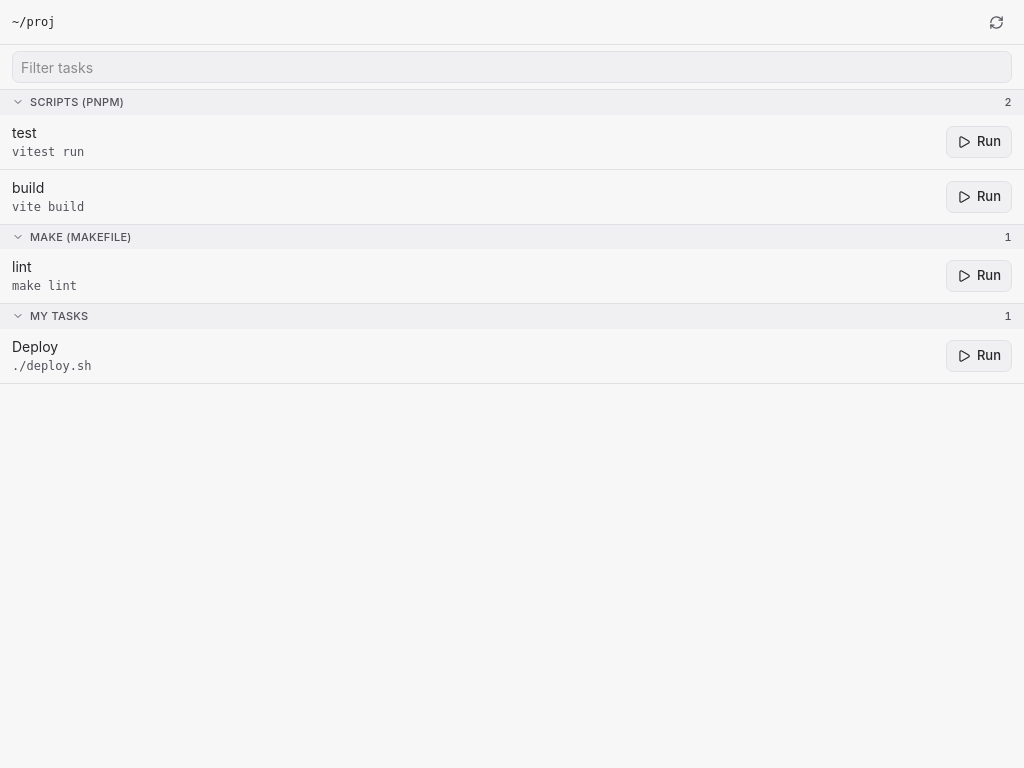
TasksView listing › filters by name or command, ignoring case and outer spaces
Expected: the element with test id "tasks-view" is shown, [0, 0, 1023, 384]
Type "  BUILD " into the search field labelled "Filter tasks" at (512, 67), box [12, 51, 1012, 83]
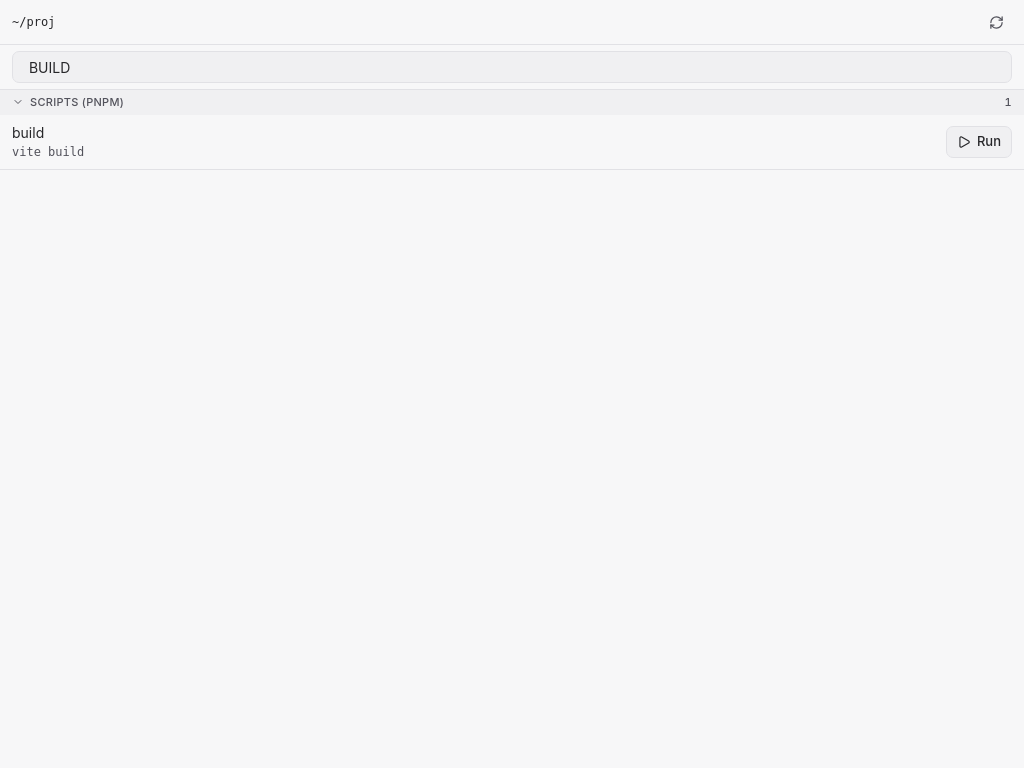
Expected: the text "vite build" is shown, [12, 144, 84, 158]
Expected: the number of list items with test id "task-row" is 1, [0, 114, 1023, 170]
# The command matches too, and groups left empty disappear
Replace the text in the search field named "Filter tasks" with "deploy.sh" at (512, 67), box [12, 51, 1012, 83]
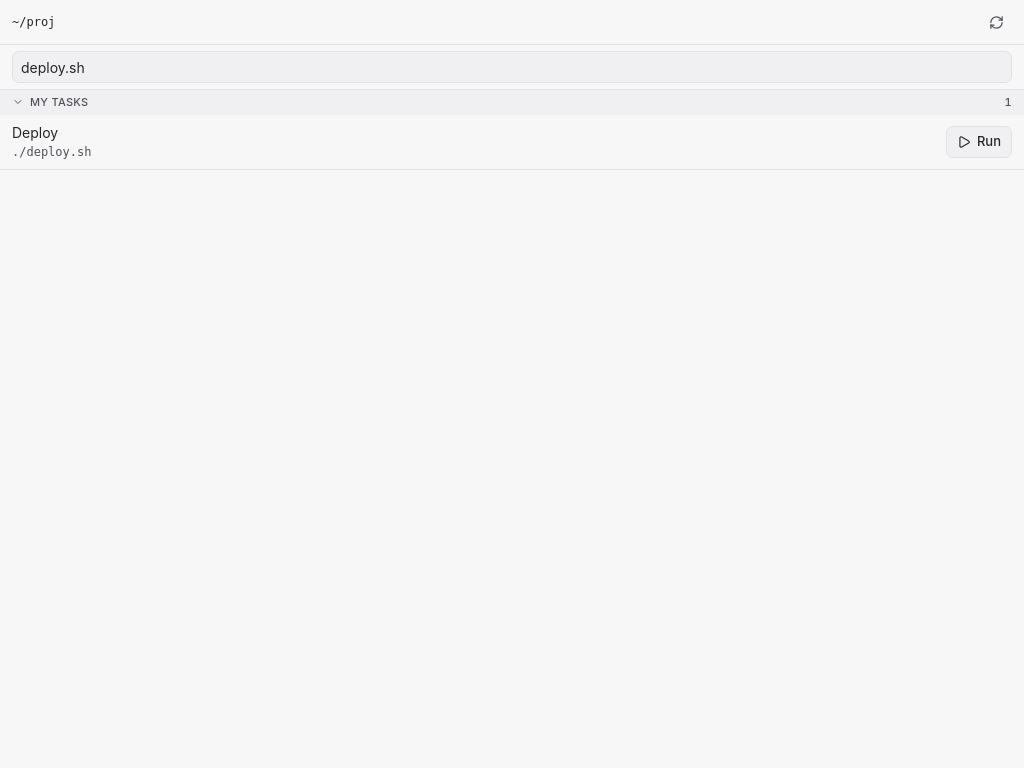
Expected: the number of list items with test id "task-row" is 1, [0, 114, 1023, 170]
Expected: the button "Scripts (pnpm)" is gone
Expected: the element "My tasks" is shown, [0, 90, 1023, 170]
Clear the search field named "Filter tasks" at (512, 67), box [12, 51, 1012, 83]
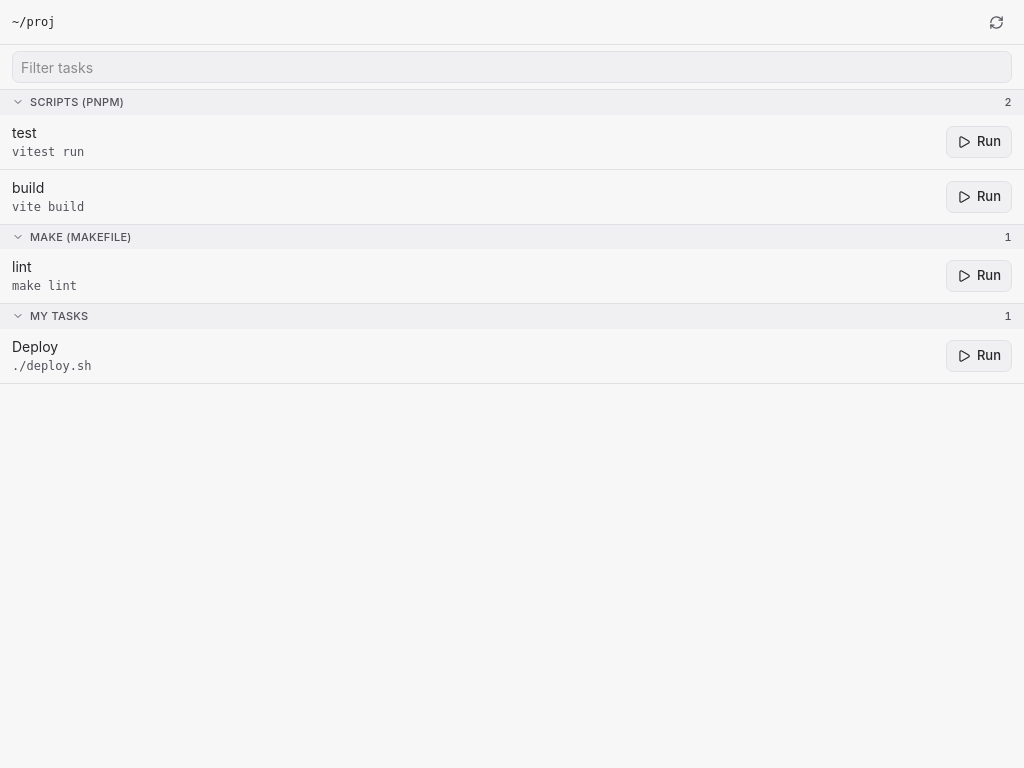
Expected: the number of list items with test id "task-row" is 4, [0, 114, 1023, 170]; [0, 170, 1023, 224]; [0, 249, 1023, 304]; [0, 328, 1023, 384]
